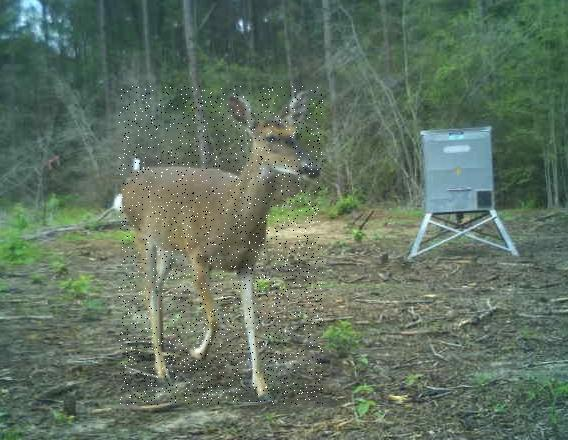Deer: (118, 86, 322, 405)
